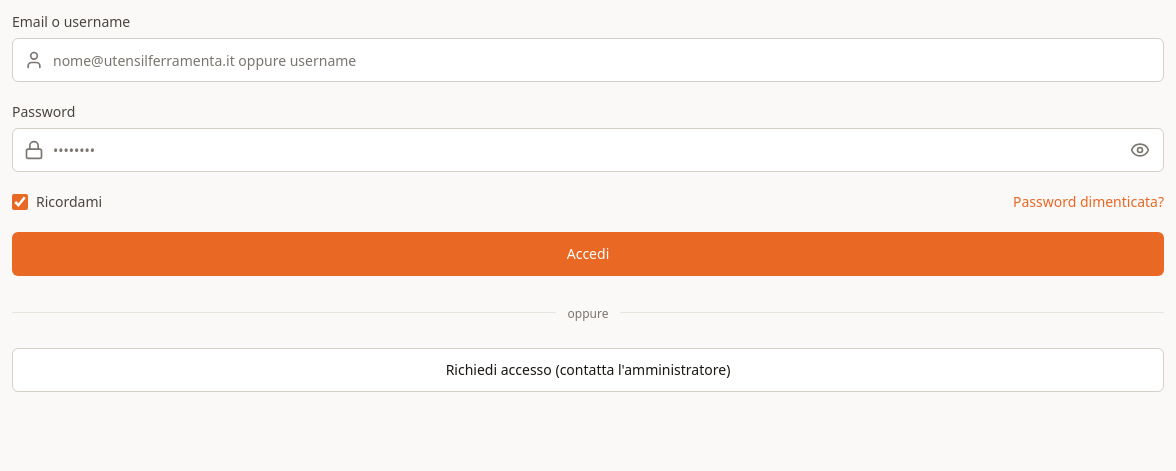
Test: LoginForm › shows an error banner when credentials are rejected
The image size is (1176, 471).
Type "mario@rossi.it" into the field labelled "Email o username".
click(588, 60); type("mario@rossi.it")  # box [12, 38, 1164, 82]
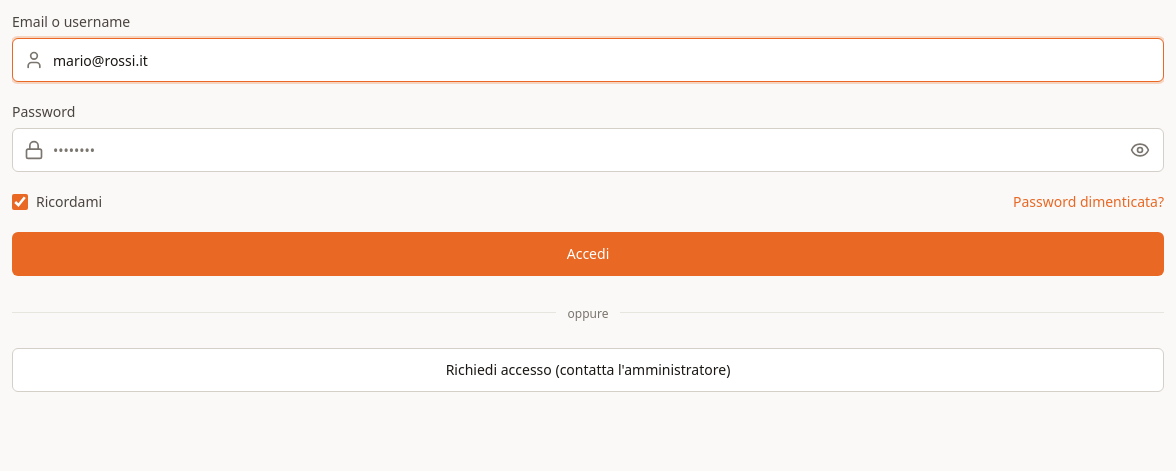
Type "wrongpass" into the password field labelled "Password".
click(588, 150); type("wrongpass")  # box [12, 128, 1164, 172]
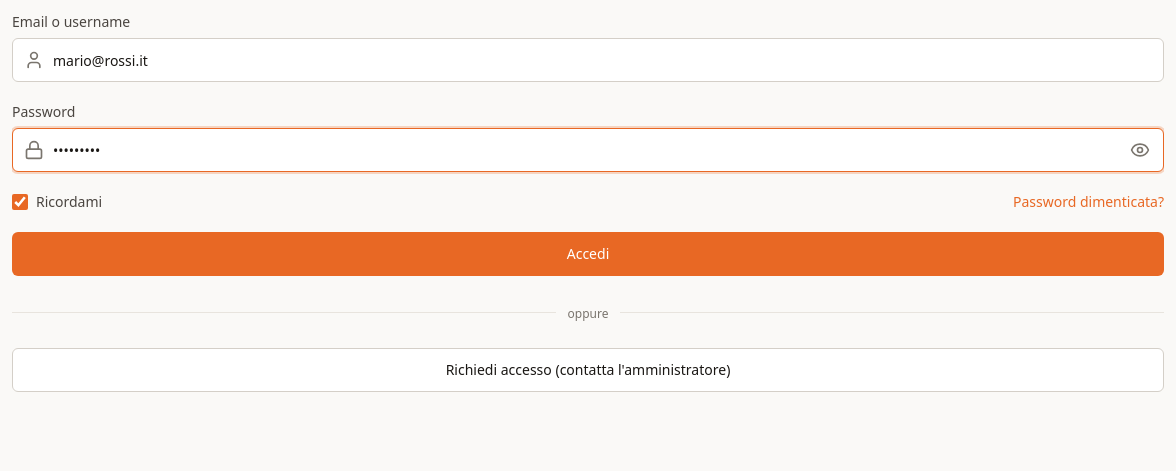
Click the button "Accedi".
click(588, 254)  # box [12, 232, 1164, 276]
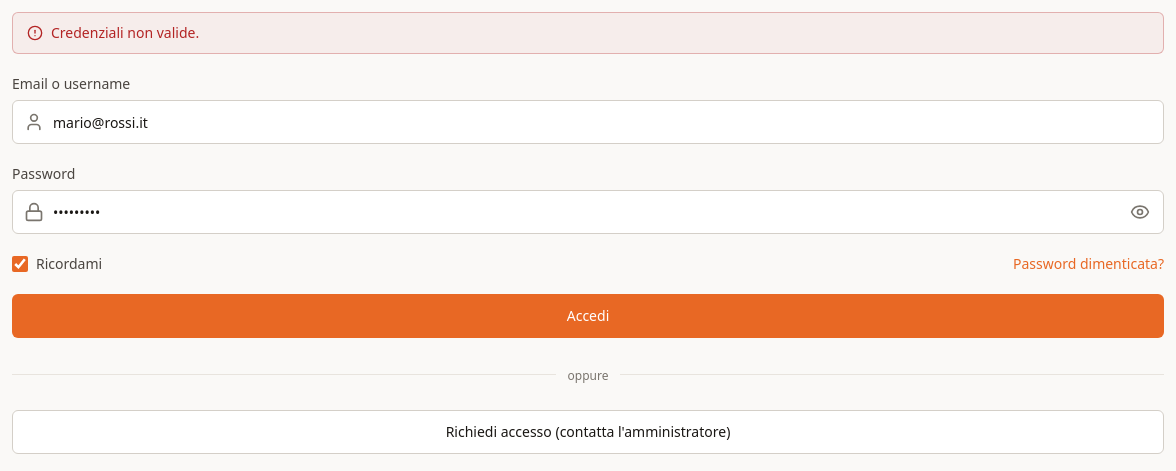
Now the text "Credenziali non valide." is shown, box [12, 12, 1164, 54]
